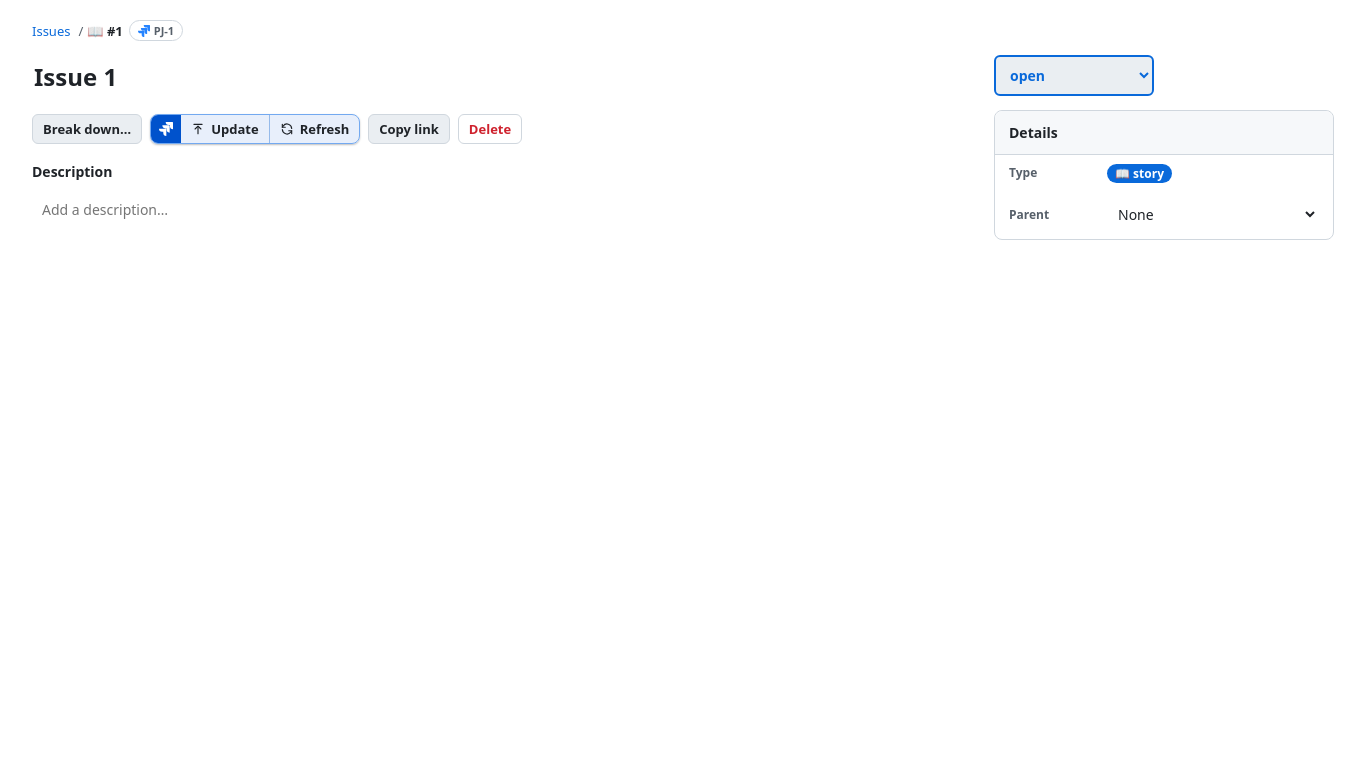
Scenario: Jira write actions › updates after confirming, without force
Click the button with aria-label "Update in Jira" at (225, 129), box [181, 115, 269, 143]
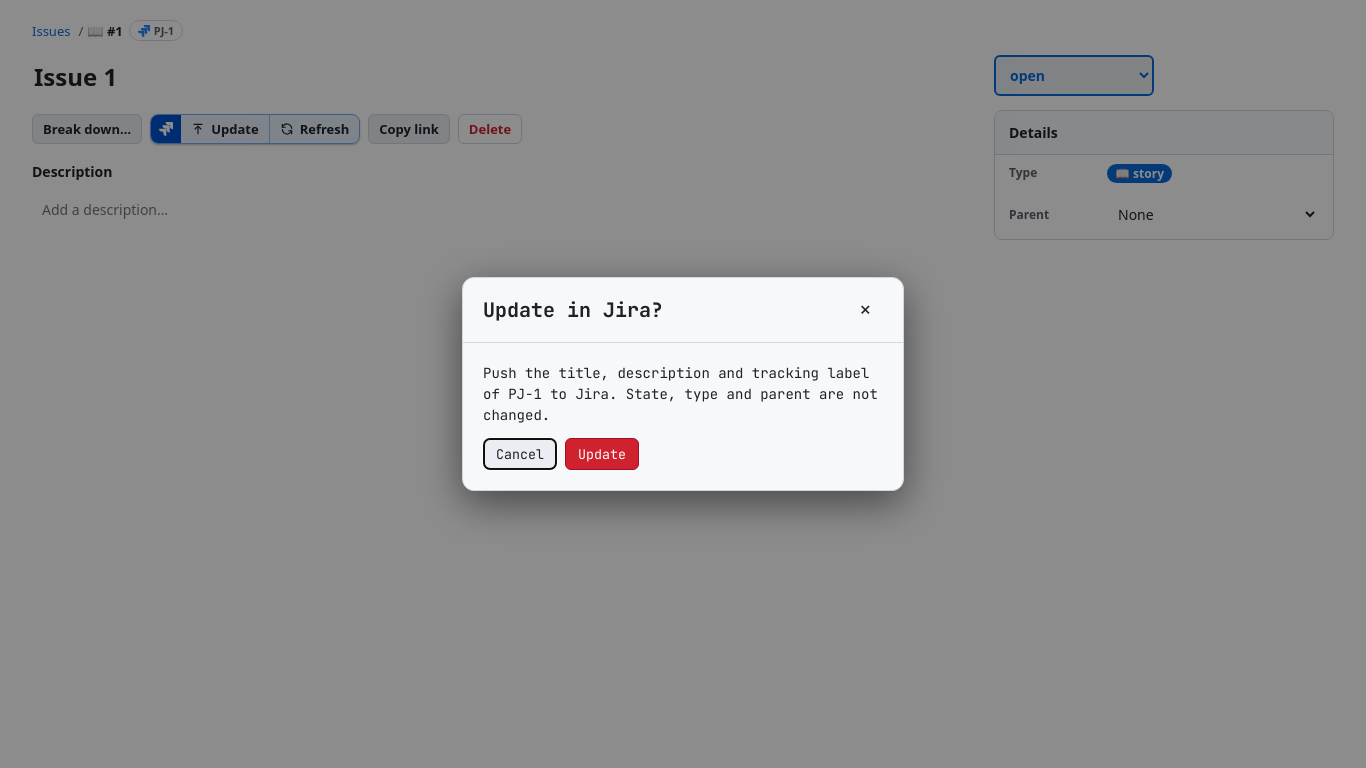
Click the button "Update" at (602, 454), box [565, 438, 639, 470]
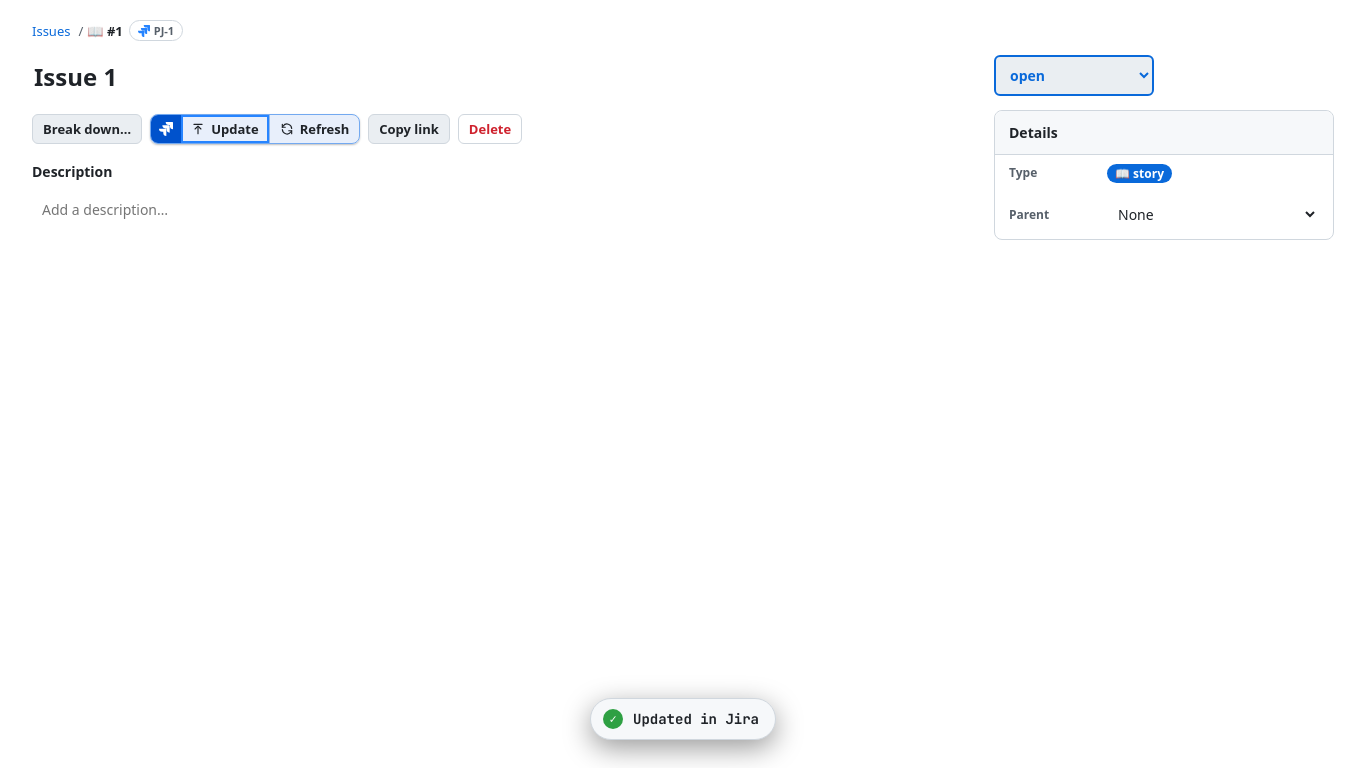
Expected: the message shows "Updated in Jira", [633, 710, 759, 728]
